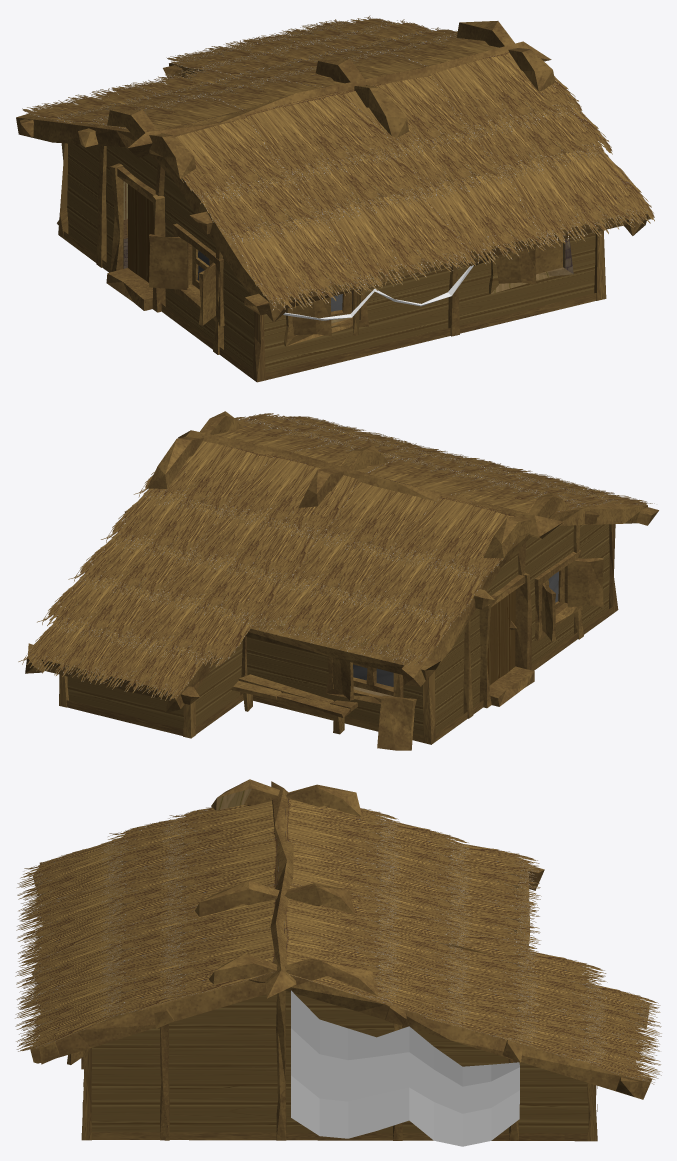
File: House_four.fbx
3 renders of one model, top to bottom at view 1: azimuth 30°, elevation 25°; view 2: azimuth 150°, elevation 25°; view 3: azimuth 270°, elevation 25°, orthographic. The views are drawn at different scales.
Parts seen in each view (by area): view 1: Без имени-1.093, балки.032, корпус.005, ткань.003; view 2: Без имени-1.093, балки.032, корпус.005, стекло.004; view 3: Без имени-1.093, балки.032, корпус.005, ткань.003.
Part boxes in pixels (box(x1,y1,x2,y2)): Без имени-1.093: box(22, 15, 654, 311); балки.032: box(16, 21, 650, 382); корпус.005: box(67, 67, 601, 372); ткань.003: box(283, 265, 473, 320); Без имени-1.093: box(18, 413, 654, 700); балки.032: box(25, 411, 658, 750); корпус.005: box(64, 466, 609, 735); стекло.004: box(353, 571, 558, 686); Без имени-1.093: box(15, 798, 661, 1084); балки.032: box(30, 779, 652, 1141); корпус.005: box(58, 843, 628, 1133); ткань.003: box(40, 904, 519, 1146).
Size of the model in its own units: 1417 by 610 by 1897.
